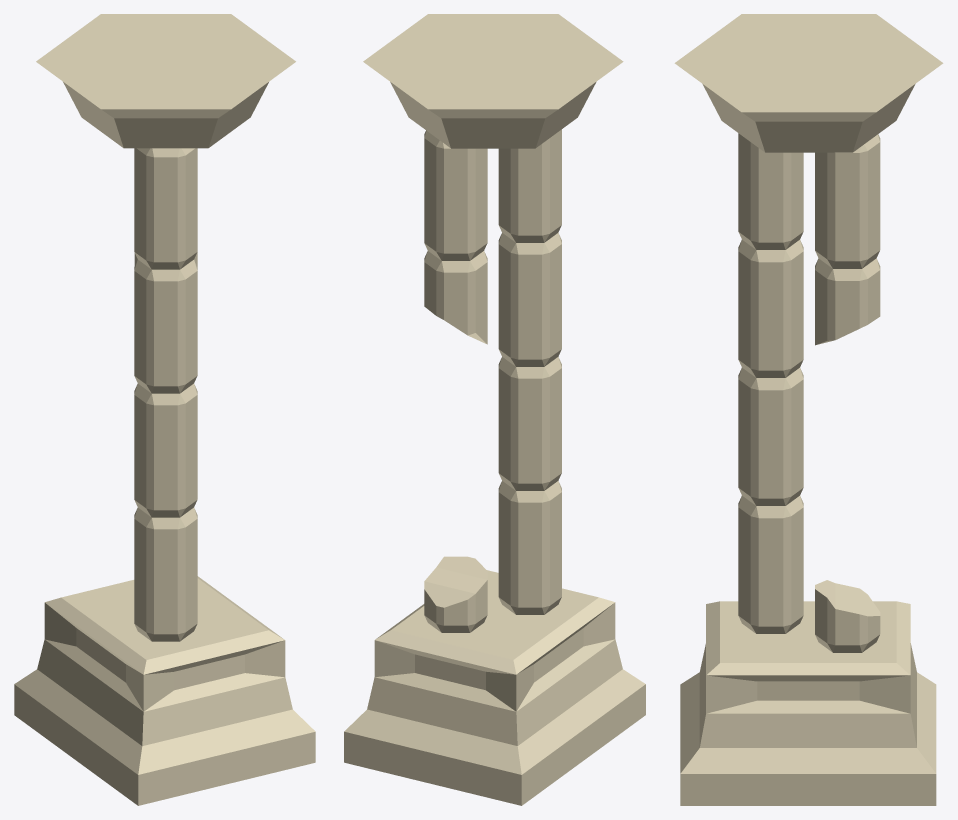
File: Destroy_Pillar_1.fbx
The picture shows the model from 3 angles, left to right: view 1: azimuth 30°, elevation 25°; view 2: azimuth 150°, elevation 25°; view 3: azimuth 270°, elevation 25°; orthographic projection. The views are drawn at different scales.
Parts seen in each view (by area): view 1: Destroy_Pillar_1; view 2: Destroy_Pillar_1; view 3: Destroy_Pillar_1.
Part boxes in pixels (x1,y1,x2,y2): Destroy_Pillar_1: (14, 14, 315, 805); Destroy_Pillar_1: (344, 14, 645, 805); Destroy_Pillar_1: (674, 14, 943, 805).
Bounding box in the file's own units: 330 × 1092 × 381.
